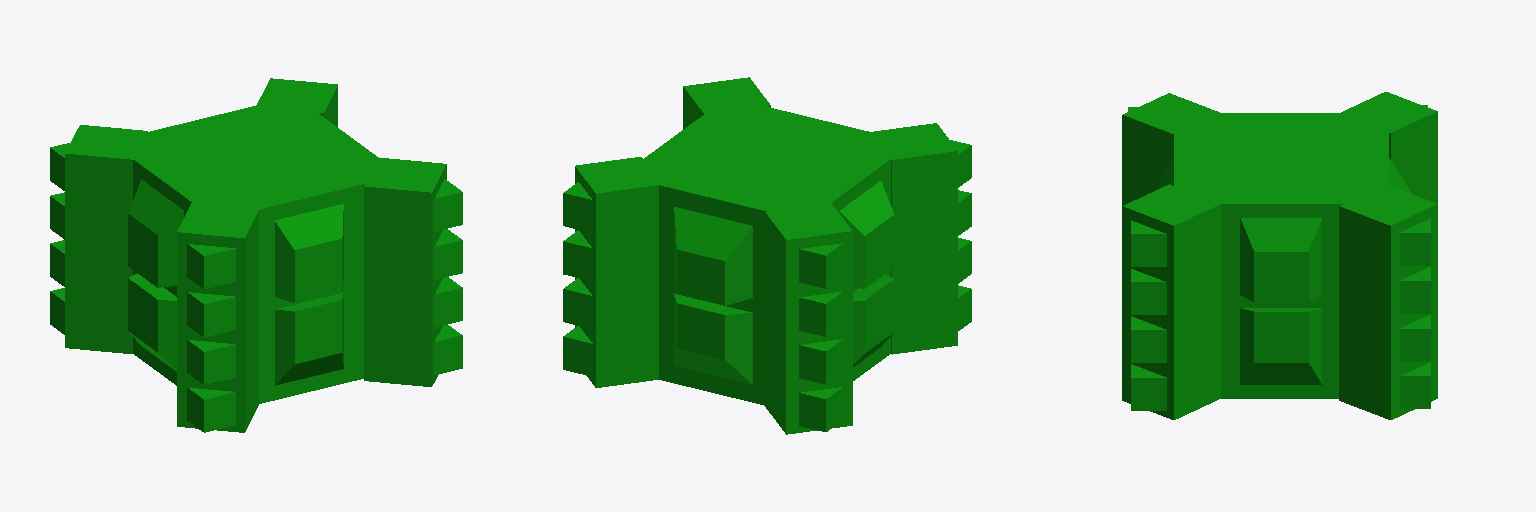
File: block4.obj
The picture shows the model from 3 angles: view 1: azimuth 30°, elevation 25°; view 2: azimuth 150°, elevation 25°; view 3: azimuth 270°, elevation 25°; orthographic projection.
Bounding box in the file's own units: 23.09 × 15.58 × 22.87.